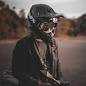helmets: (25, 3, 63, 46)
